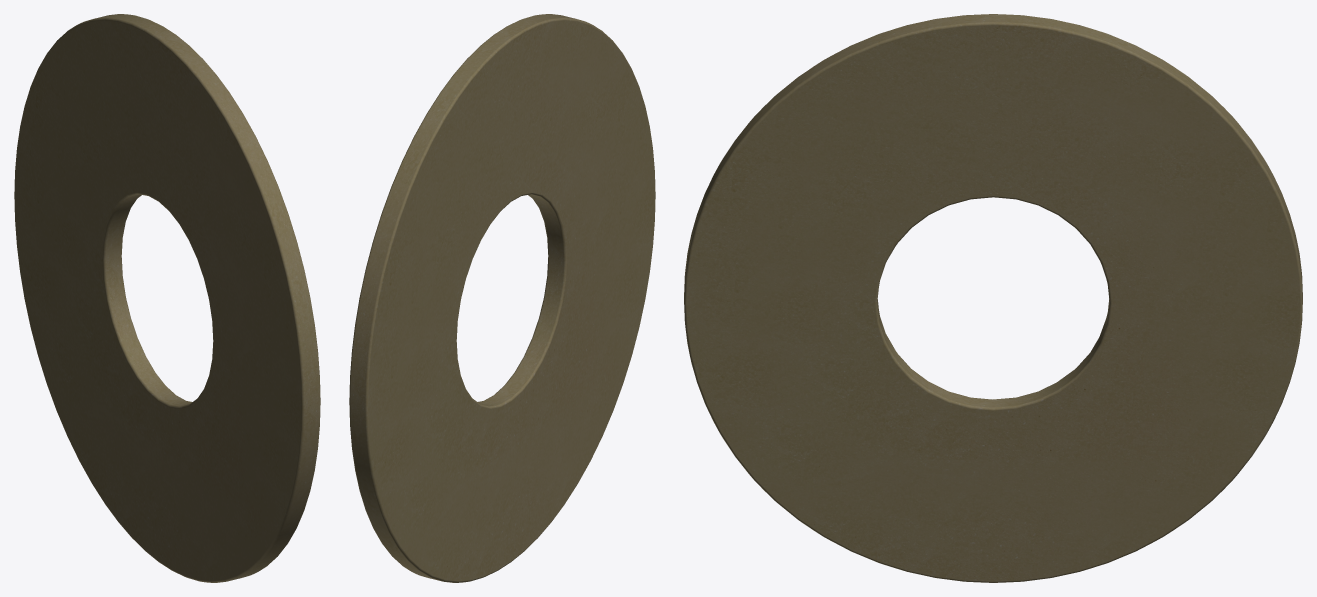
3 renders of one model, left to right at view 1: azimuth 30°, elevation 25°; view 2: azimuth 150°, elevation 25°; view 3: azimuth 270°, elevation 25°, orthographic. The views are drawn at different scales.
Visible parts, largest first — view 1: object_1; view 2: object_1; view 3: object_1.
Part boxes in pixels (box(x1,y1,x2,y2)): object_1: box(14, 14, 320, 582); object_1: box(349, 14, 655, 582); object_1: box(684, 14, 1302, 582).
Size of the model in its own units: 0.18 by 4.8 by 4.8.
Materials: 1 (1 with a texture image).
